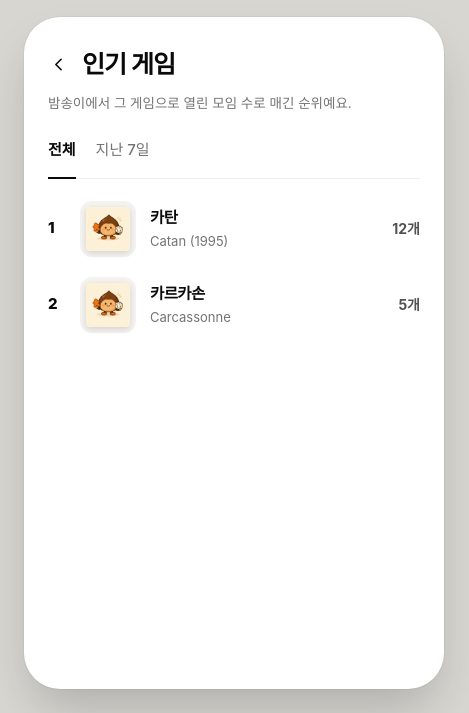
it: 인기 게임 랭킹 화면 › 전체와 지난 7일을 탭으로 구분해 표시하고 전환에 다시 조회하지 않는다
The image size is (469, 713).
Click the button "지난 7일".
click(123, 157)  # box [96,135,150,179]
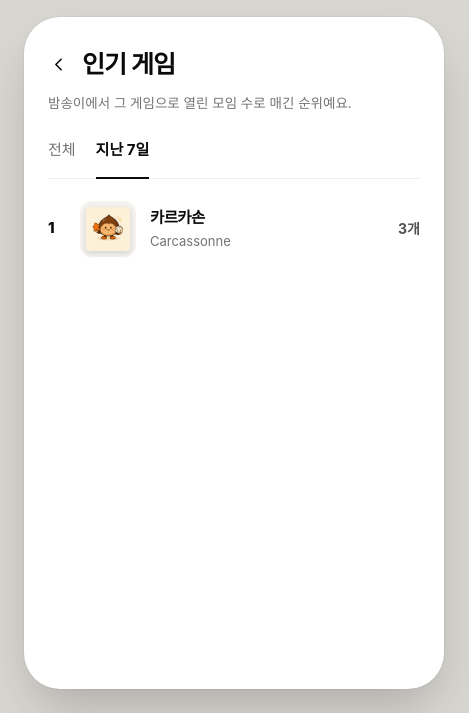
Expected: the link "카탄" is gone
